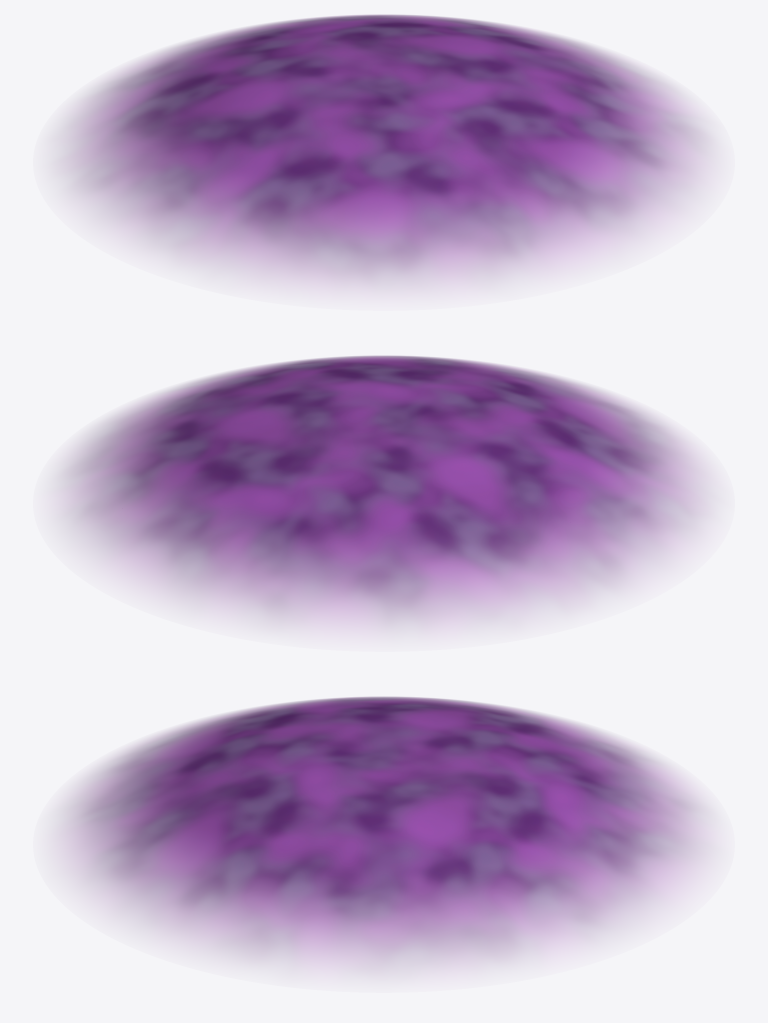
File: piso_reflejo_magenta_manchas.glb
3 renders of one model, top to bottom at view 1: azimuth 30°, elevation 25°; view 2: azimuth 150°, elevation 25°; view 3: azimuth 270°, elevation 25°, orthographic.
Visible parts, largest first — view 1: piso_curvo; view 2: piso_curvo; view 3: piso_curvo.
Part boxes in pixels (<box>): piso_curvo: <box>59,14,708,288</box>; piso_curvo: <box>59,355,708,629</box>; piso_curvo: <box>59,696,708,970</box>.
Bounding box in the file's own units: 120 × 16 × 120.
Materials: 1 (1 with a texture image).
